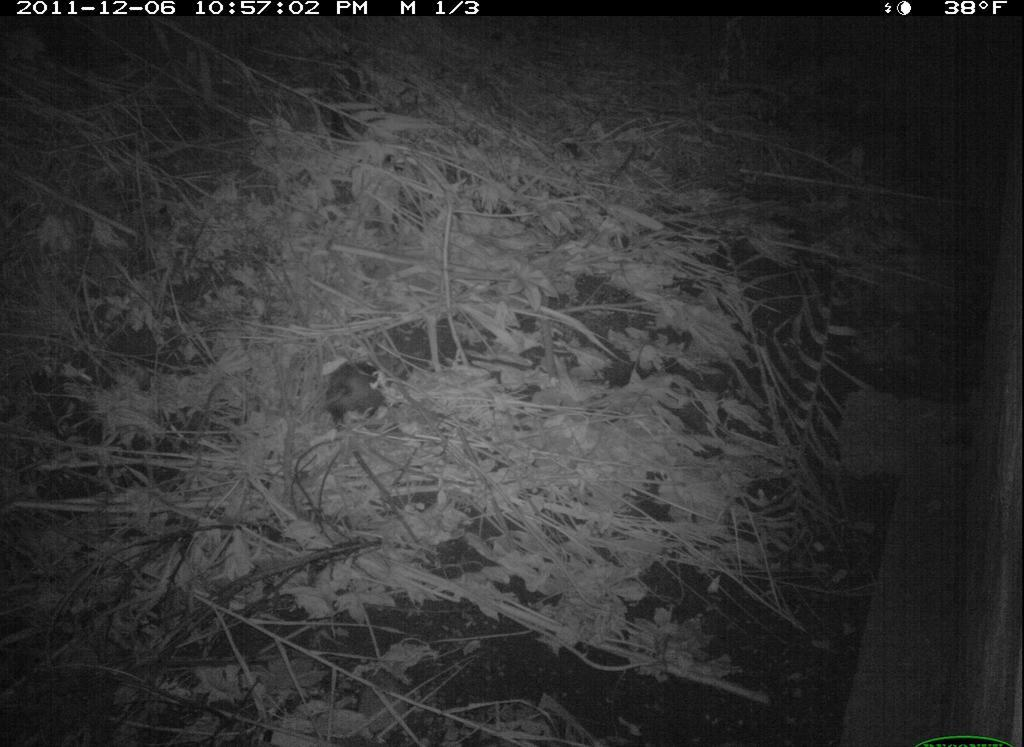opossum: (313, 353, 396, 436)
